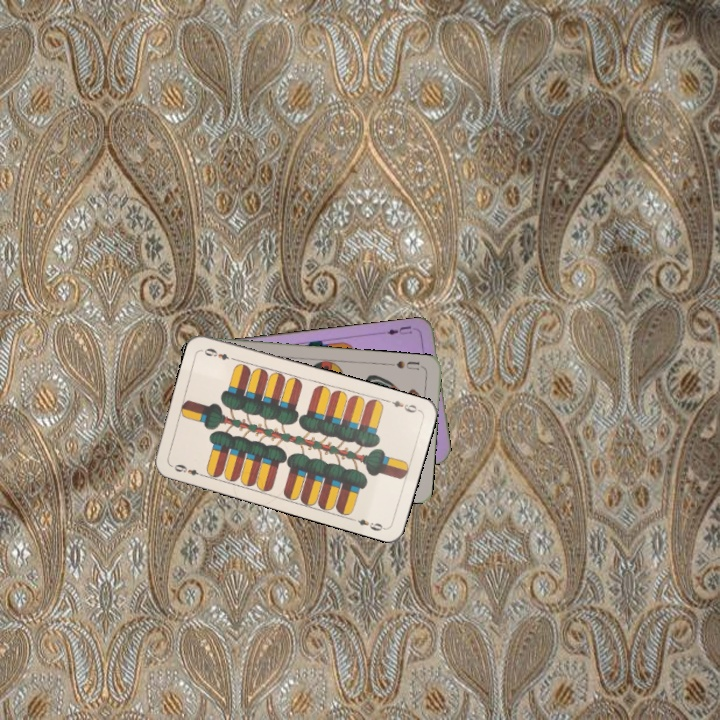E9: (382, 396, 422, 415), (167, 460, 207, 479)
EU: (383, 322, 414, 337)
SU: (385, 357, 426, 372)
